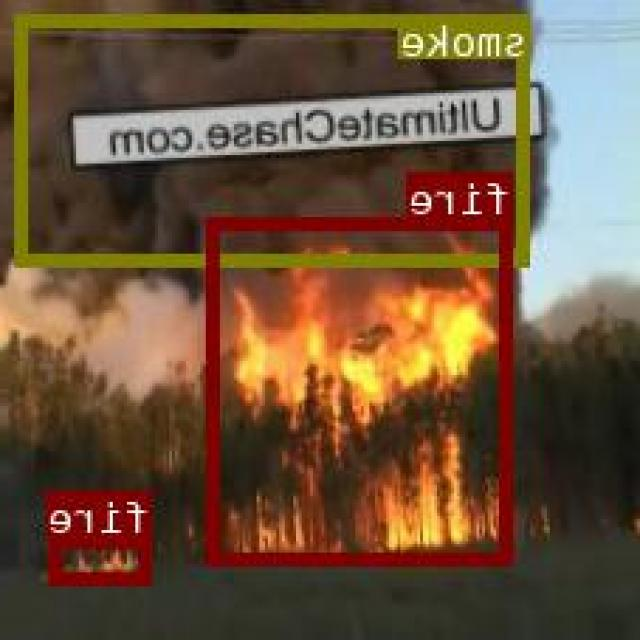fire: (211, 217, 513, 562), (53, 534, 154, 582)
smoke: (17, 13, 532, 264)
